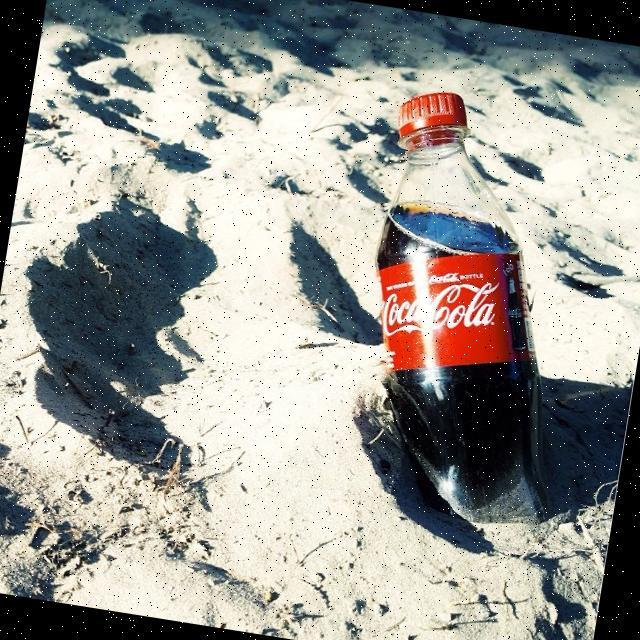coca-cola: (336, 85, 612, 531)
